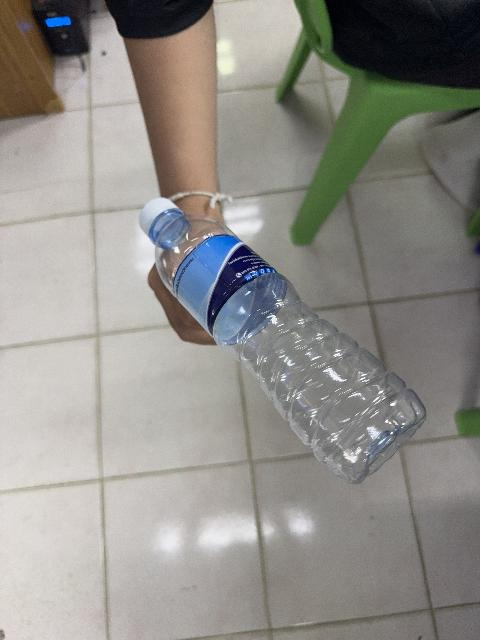bottle: (140, 198, 425, 483)
